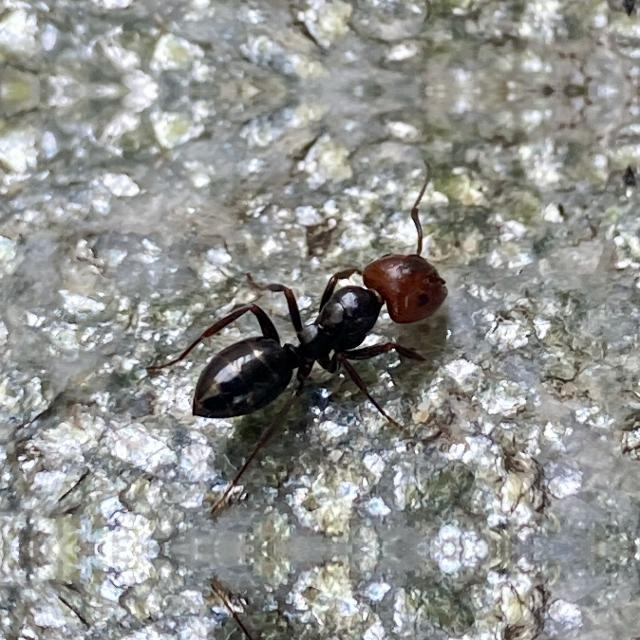Camponotus: (173, 230, 472, 442)
